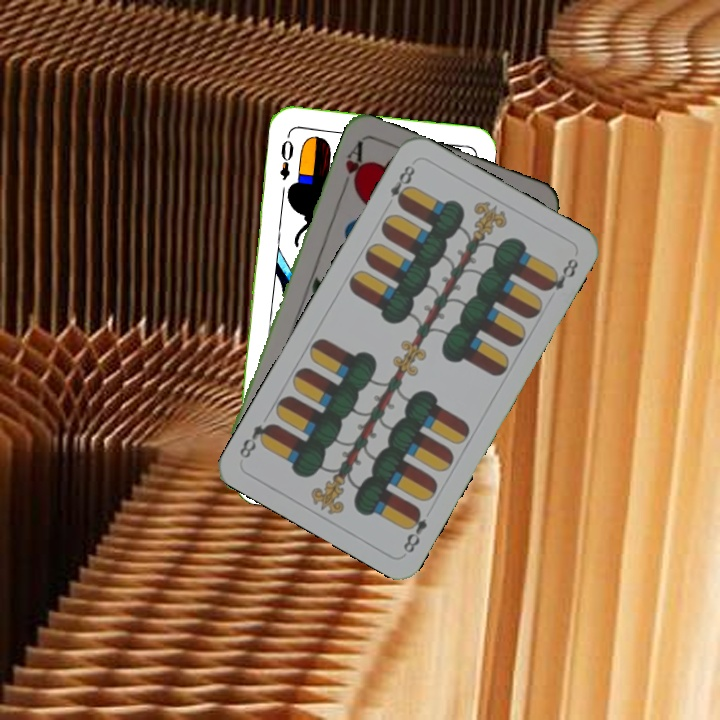E8: (399, 504, 430, 556), (386, 161, 418, 209)
EO: (276, 136, 297, 183)
HA: (338, 137, 368, 195)
